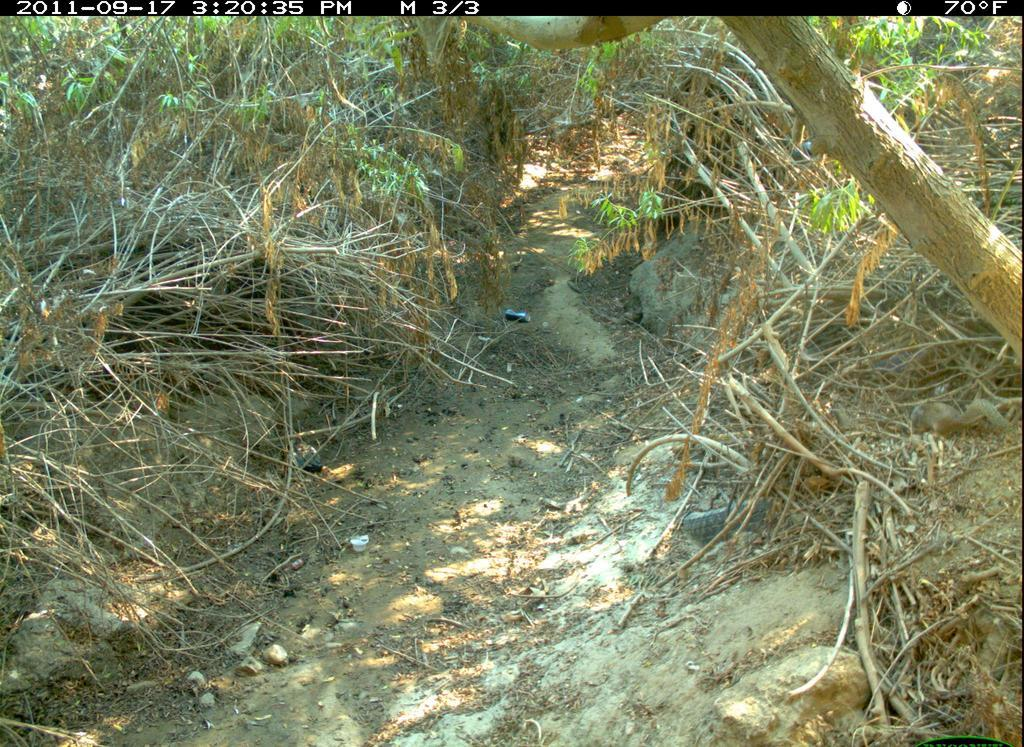squirrel: (899, 386, 1022, 454)
